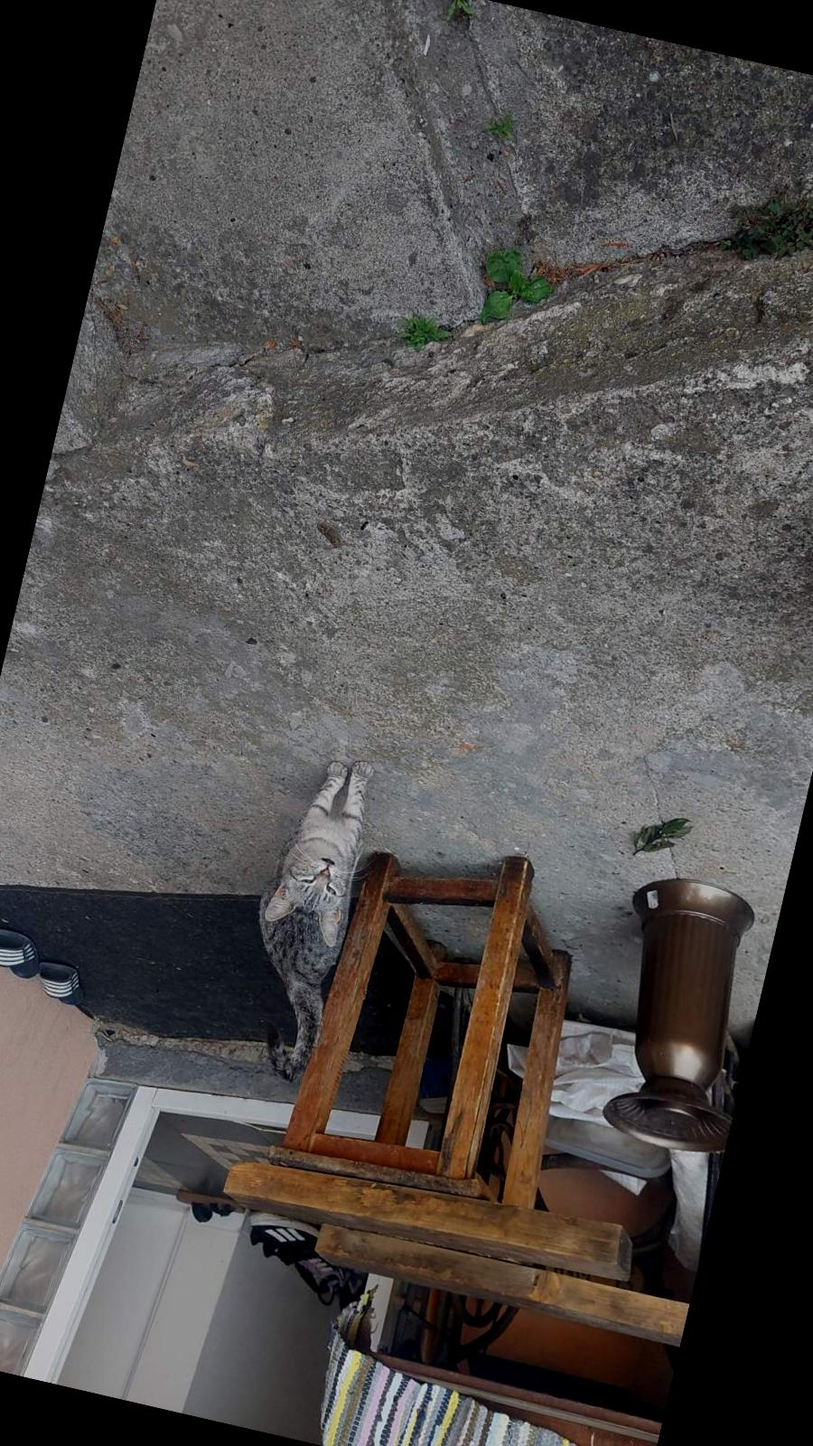macka: (222, 745, 385, 1089)
